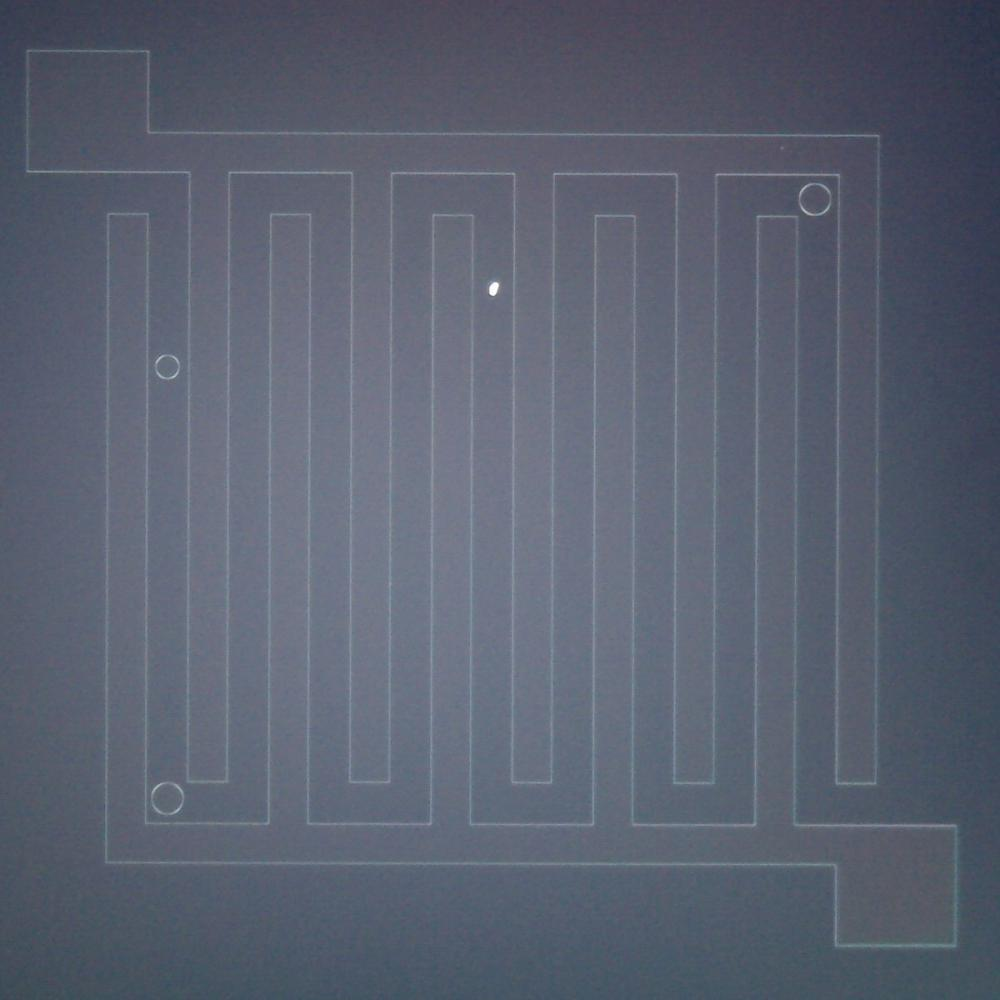circle: (794, 175, 838, 224), (149, 778, 188, 819), (153, 346, 184, 386)
spot: (480, 273, 506, 306)
